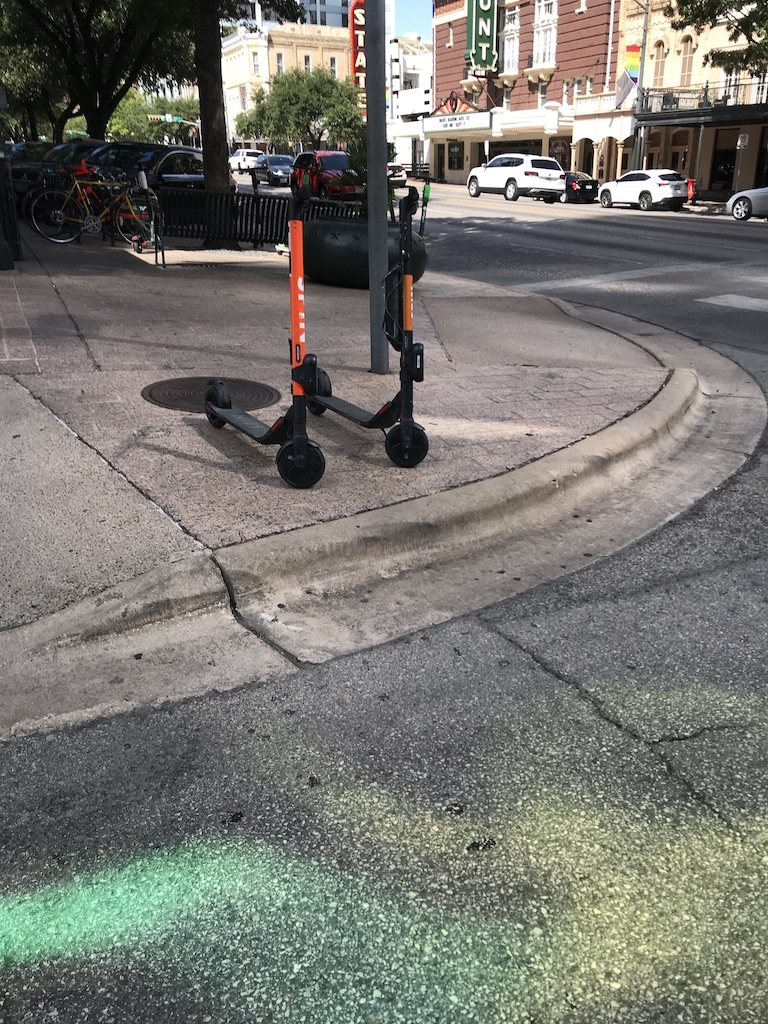scooter: (205, 183, 328, 491), (309, 184, 431, 469), (411, 175, 448, 237), (133, 166, 157, 255), (241, 168, 270, 196)
